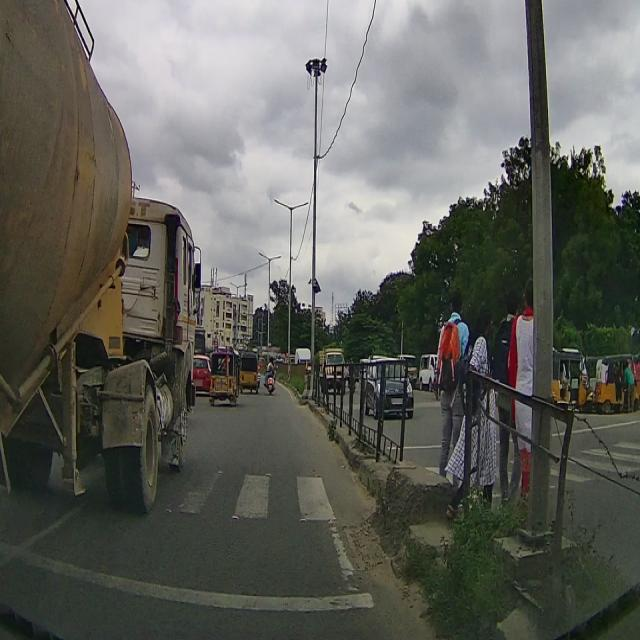electric pole ahead at: (296, 41, 337, 420)
person ahead at: (429, 287, 477, 497)
truck ahead at: (0, 0, 205, 520)
